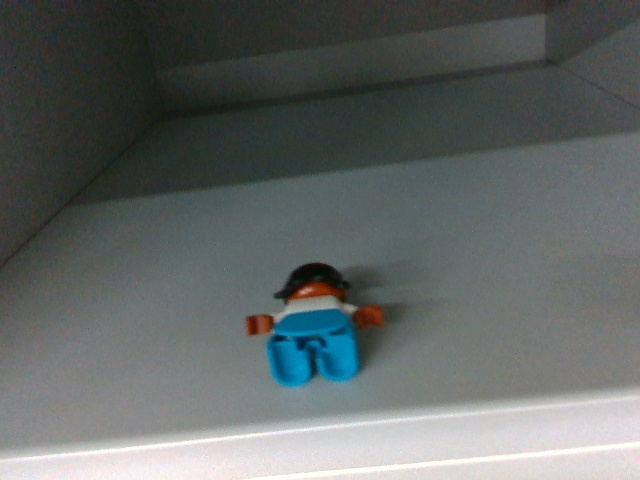people: (243, 260, 388, 388)
